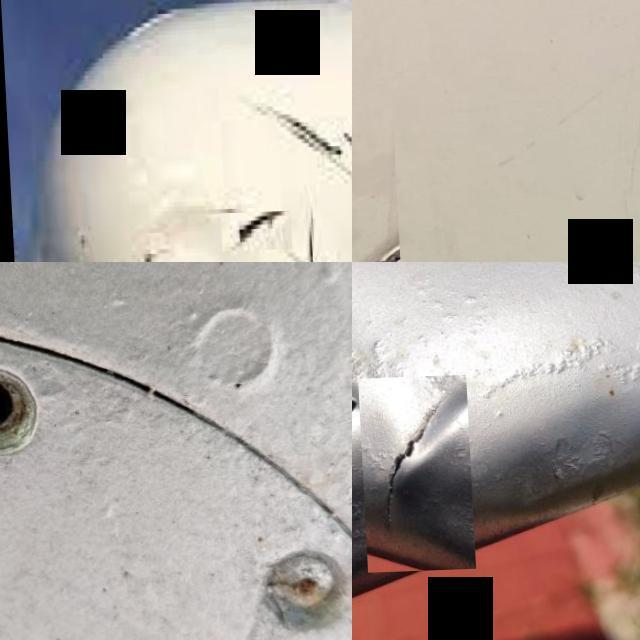Crack: (354, 378, 470, 575), (352, 78, 396, 262), (218, 213, 290, 253)
Dent: (352, 263, 467, 640)
Missing_Fastener: (0, 322, 67, 502)
